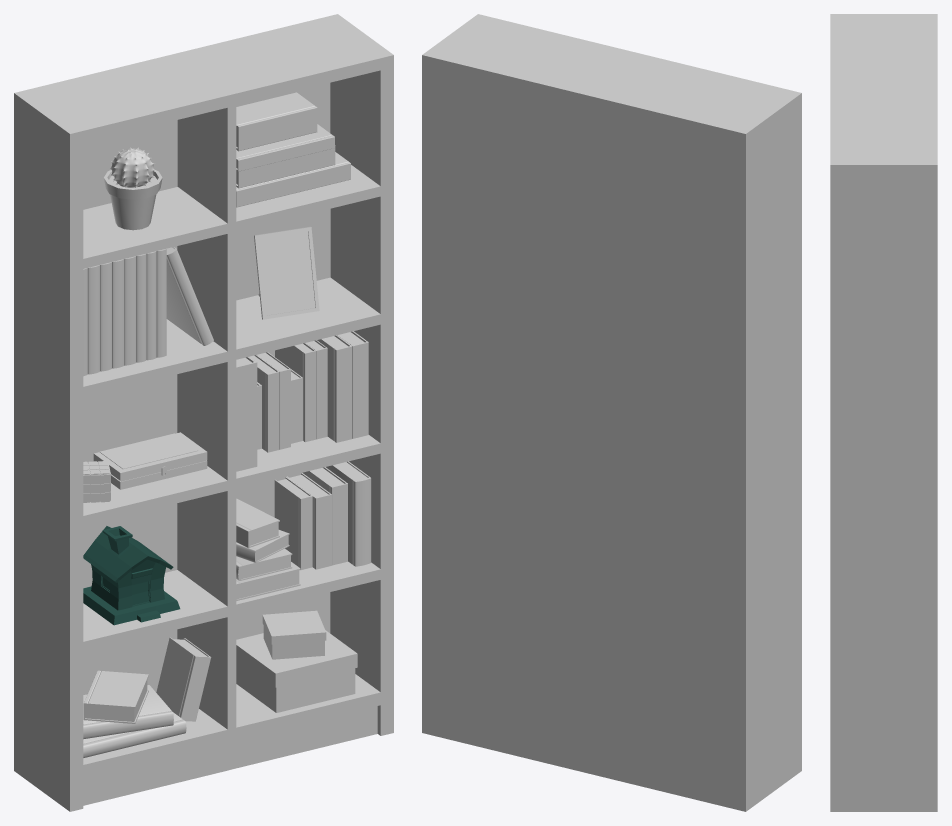
File: Estante Grande.fbx
3 views of the same model, side by side, from view 1: azimuth 30°, elevation 25°; view 2: azimuth 150°, elevation 25°; view 3: azimuth 270°, elevation 25° (orthographic). The views are drawn at different scales.
Parts seen in each view (by area): view 1: EstanteLivrosGrande5divisões02, Casinha, PortaRetratoTela02, Caixa20x20x10Tampa002, Livro5x11x18(1)Capa013, Caixa20x20x012, Livro5x14x21(1)Capa004, Livro5x16x23(1)Capa006, Livro5x14x21(1)Capa001, Livro5x20x25(1)Capa014, Livro5x16x23(1)Capa010, Livro5x20x25(1)Capa001 (+32 smaller); view 2: EstanteLivrosGrande5divisões02; view 3: EstanteLivrosGrande5divisões02.
Boxes of the visible parts, <box> form: EstanteLivrosGrande5divisões02: <box>14,14,393,811</box>; Casinha: <box>83,526,180,625</box>; PortaRetratoTela02: <box>258,231,315,315</box>; Caixa20x20x10Tampa002: <box>236,630,357,687</box>; Livro5x11x18(1)Capa013: <box>236,92,317,151</box>; Caixa20x20x012: <box>236,659,355,712</box>; Livro5x14x21(1)Capa004: <box>156,637,211,721</box>; Livro5x16x23(1)Capa006: <box>317,335,352,442</box>; Livro5x14x21(1)Capa001: <box>274,477,312,569</box>; Livro5x20x25(1)Capa014: <box>166,247,213,345</box>; Livro5x16x23(1)Capa010: <box>236,356,257,471</box>; Livro5x20x25(1)Capa001: <box>326,461,371,566</box>; EstanteLivrosGrande5divisões02: <box>422,14,801,811</box>; EstanteLivrosGrande5divisões02: <box>830,14,937,811</box>.
Size of the model in its own units: 100 by 200 by 30.
